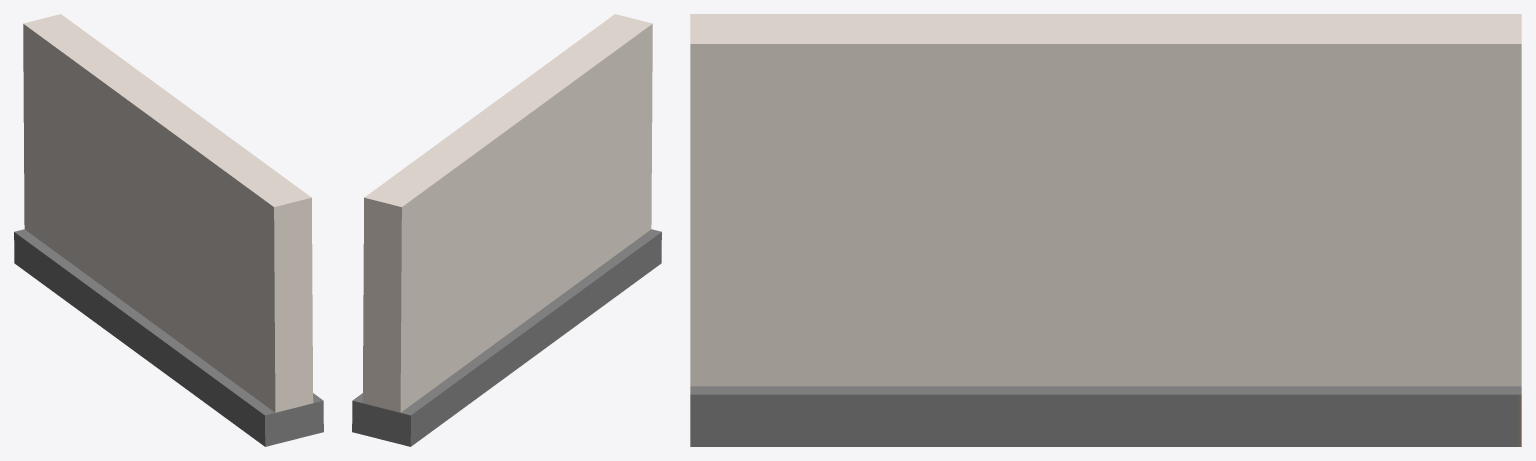
File: Wall.fbx
3 views of the same model, side by side, from view 1: azimuth 30°, elevation 25°; view 2: azimuth 150°, elevation 25°; view 3: azimuth 270°, elevation 25° (orthographic). The views are drawn at different scales.
Visible parts, largest first — view 1: Wall_fence; view 2: Wall_fence; view 3: Wall_fence.
Part boxes in pixels (x1,y1,x2,y2): Wall_fence: (14, 14, 323, 446); Wall_fence: (352, 14, 661, 446); Wall_fence: (690, 14, 1521, 446).
Bounding box in the file's own units: 3.12 × 12.04 × 23.
1 material, 1 textured.
